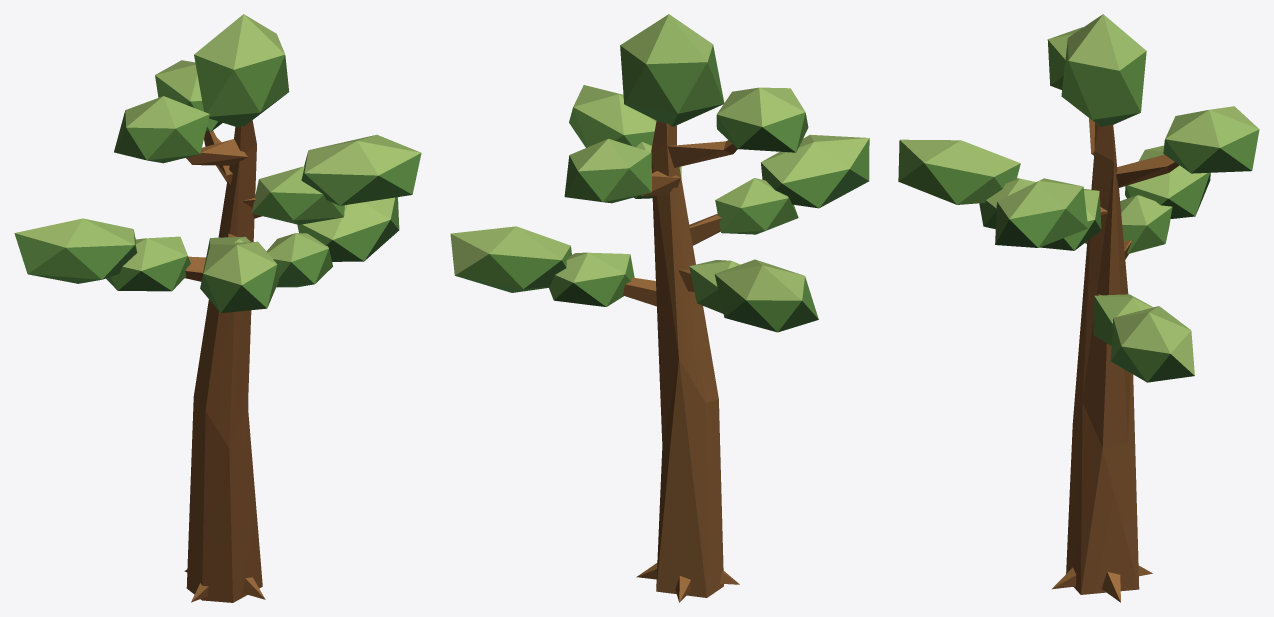
3 renders of one model, left to right at view 1: azimuth 30°, elevation 25°; view 2: azimuth 150°, elevation 25°; view 3: azimuth 270°, elevation 25°, orthographic. The views are drawn at different scales.
Visible parts, largest first — view 1: WK_Tree_Pine_Alpine_LOD1_Balanced; view 2: WK_Tree_Pine_Alpine_LOD1_Balanced; view 3: WK_Tree_Pine_Alpine_LOD1_Balanced.
Boxes of the visible parts, box(x1,y1,x2,y2) form: WK_Tree_Pine_Alpine_LOD1_Balanced: box(14, 14, 421, 602); WK_Tree_Pine_Alpine_LOD1_Balanced: box(450, 14, 869, 602); WK_Tree_Pine_Alpine_LOD1_Balanced: box(898, 14, 1259, 602).
Size of the model in its own units: 5.05 by 7.42 by 4.18.
